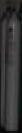cylinder: (1, 1, 22, 133)
